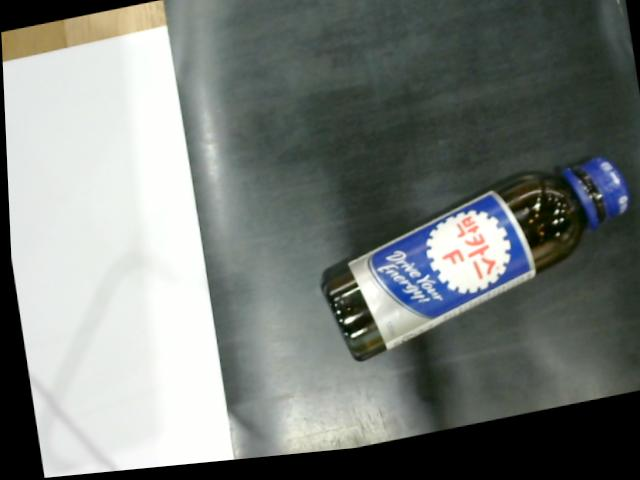glass: (312, 157, 632, 376)
